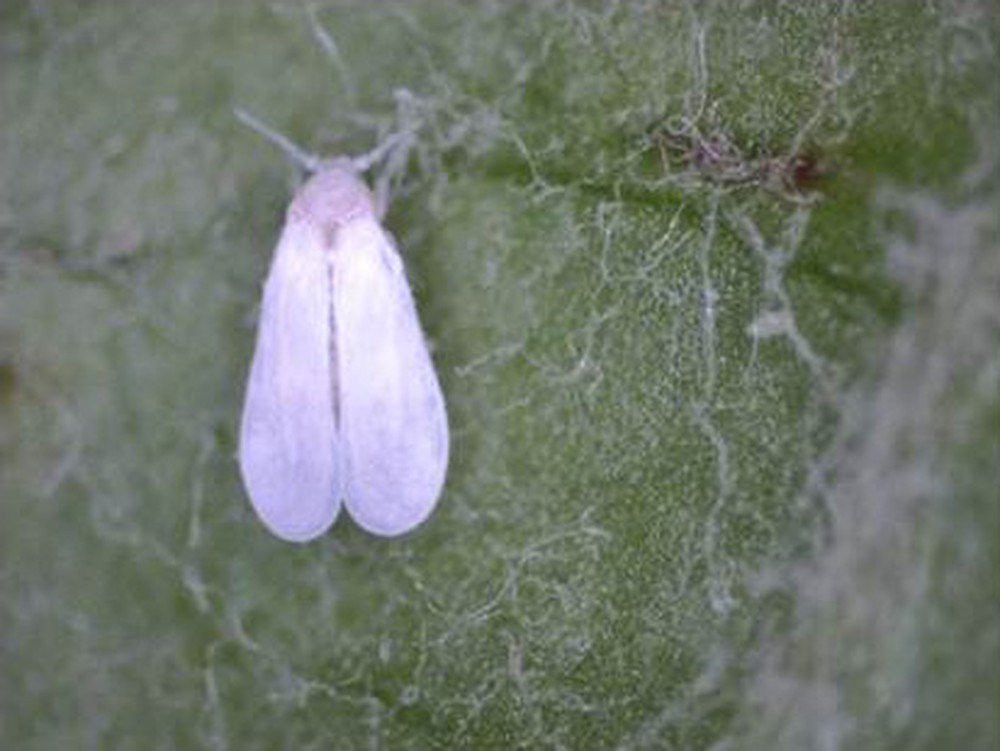Mosca Blanca: (190, 89, 488, 562)
